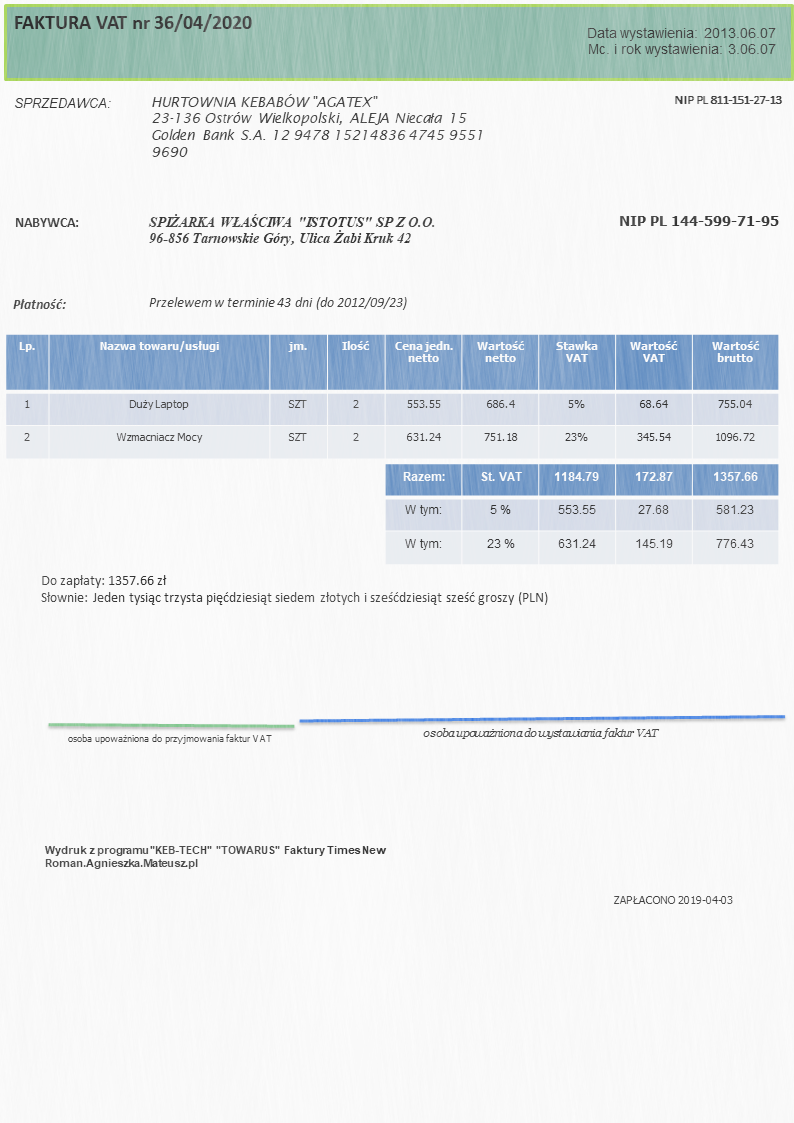Table: (4, 332, 780, 459), (384, 464, 779, 565)
TextBox: (148, 92, 485, 163), (38, 572, 550, 611), (146, 212, 437, 247), (43, 842, 389, 871), (583, 24, 779, 60), (11, 11, 254, 34), (145, 293, 408, 311), (420, 724, 661, 742), (66, 732, 274, 745), (616, 213, 779, 229), (610, 891, 735, 908), (12, 91, 111, 111), (671, 92, 784, 107), (12, 214, 82, 230), (10, 295, 68, 313)
